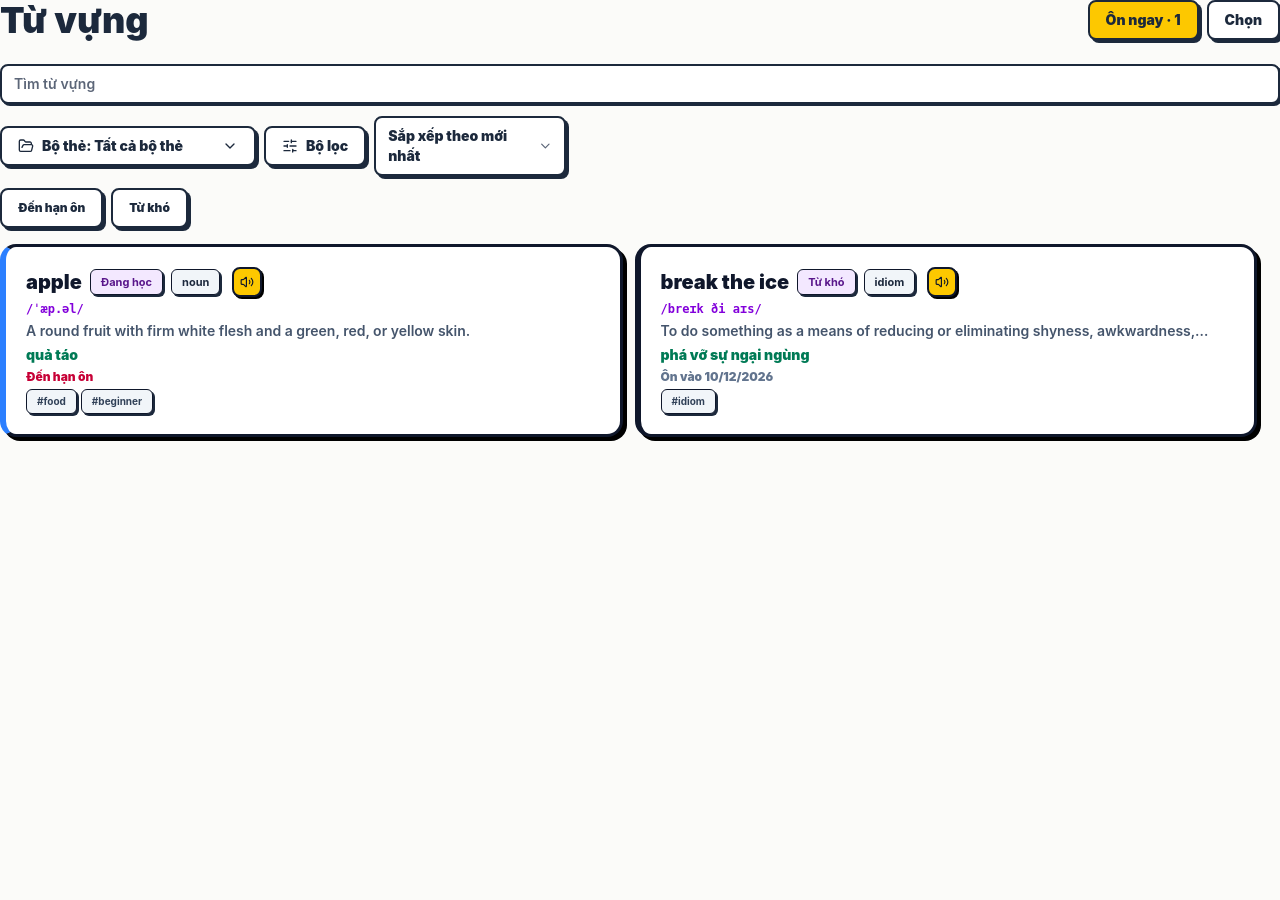
Test: VocabularyListPage bulk lessons › projects generated lesson count from selected words and lesson size
The width and height of the screenshot is (1280, 900).
Step 1. Click the button "Chọn" → (1243, 20), box left=1207, top=0, right=1279, bottom=40
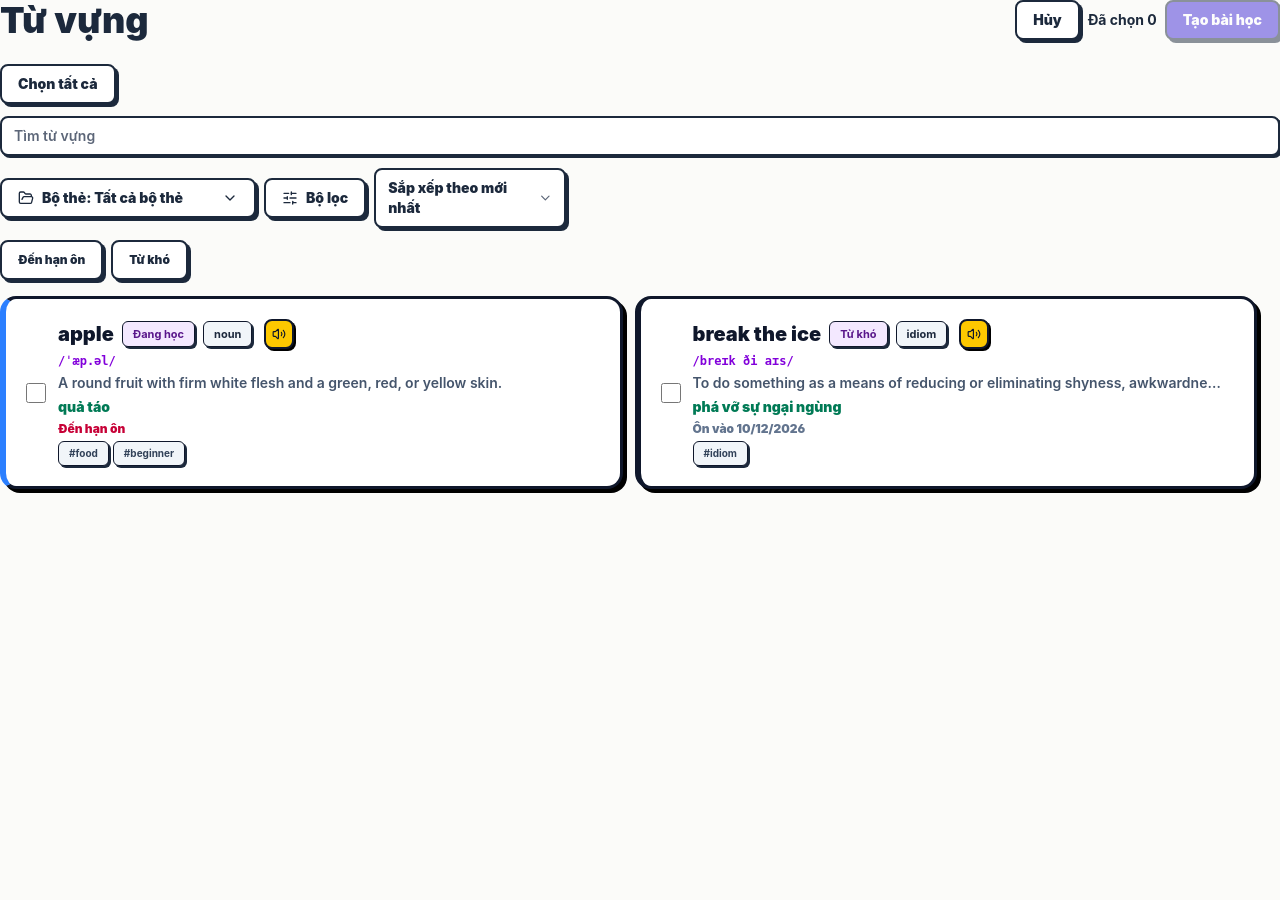
Step 2. Click the button "Chọn tất cả" → (58, 84), box left=0, top=64, right=116, bottom=104
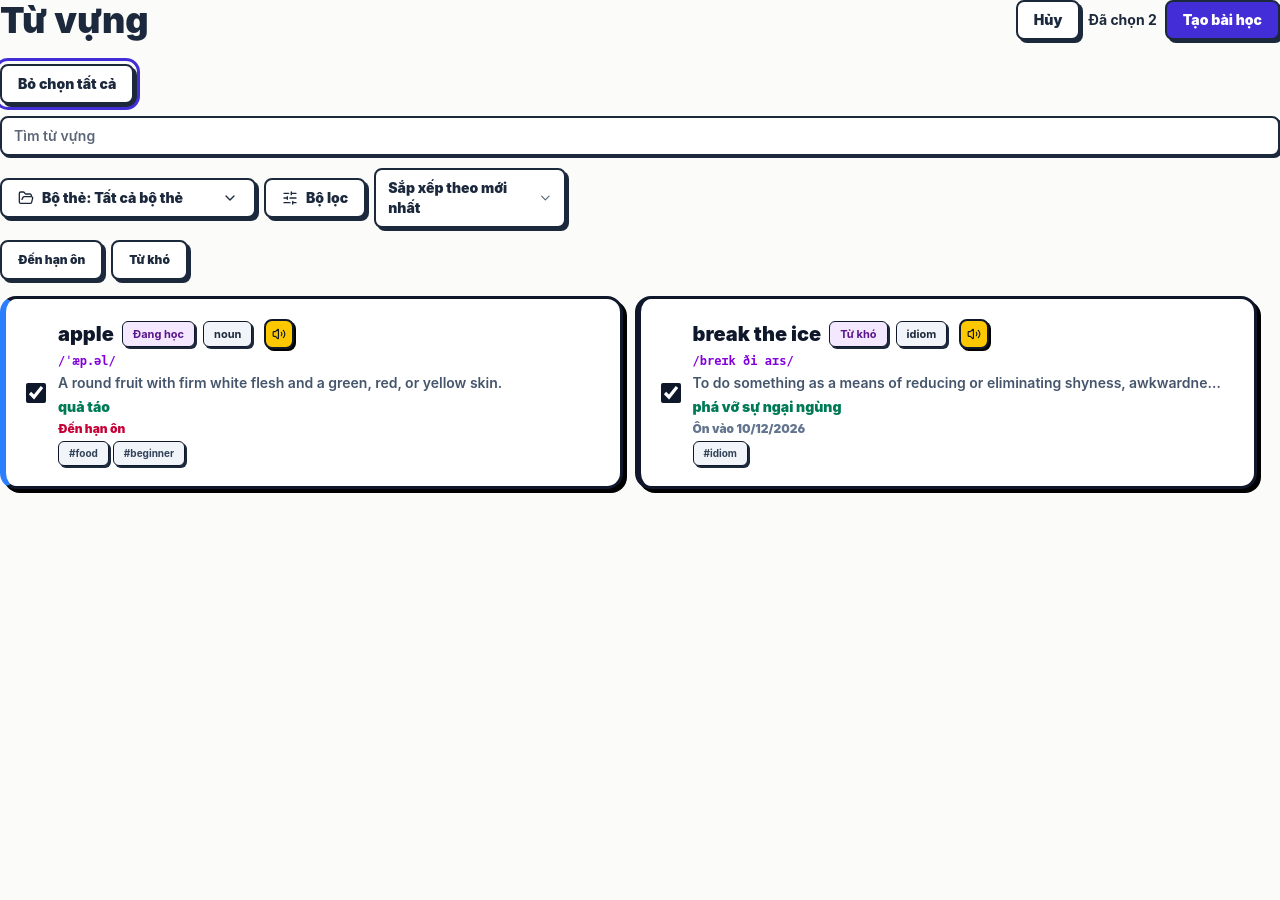
Step 3. Click the button "Tạo bài học" → (1222, 20), box left=1165, top=0, right=1279, bottom=40
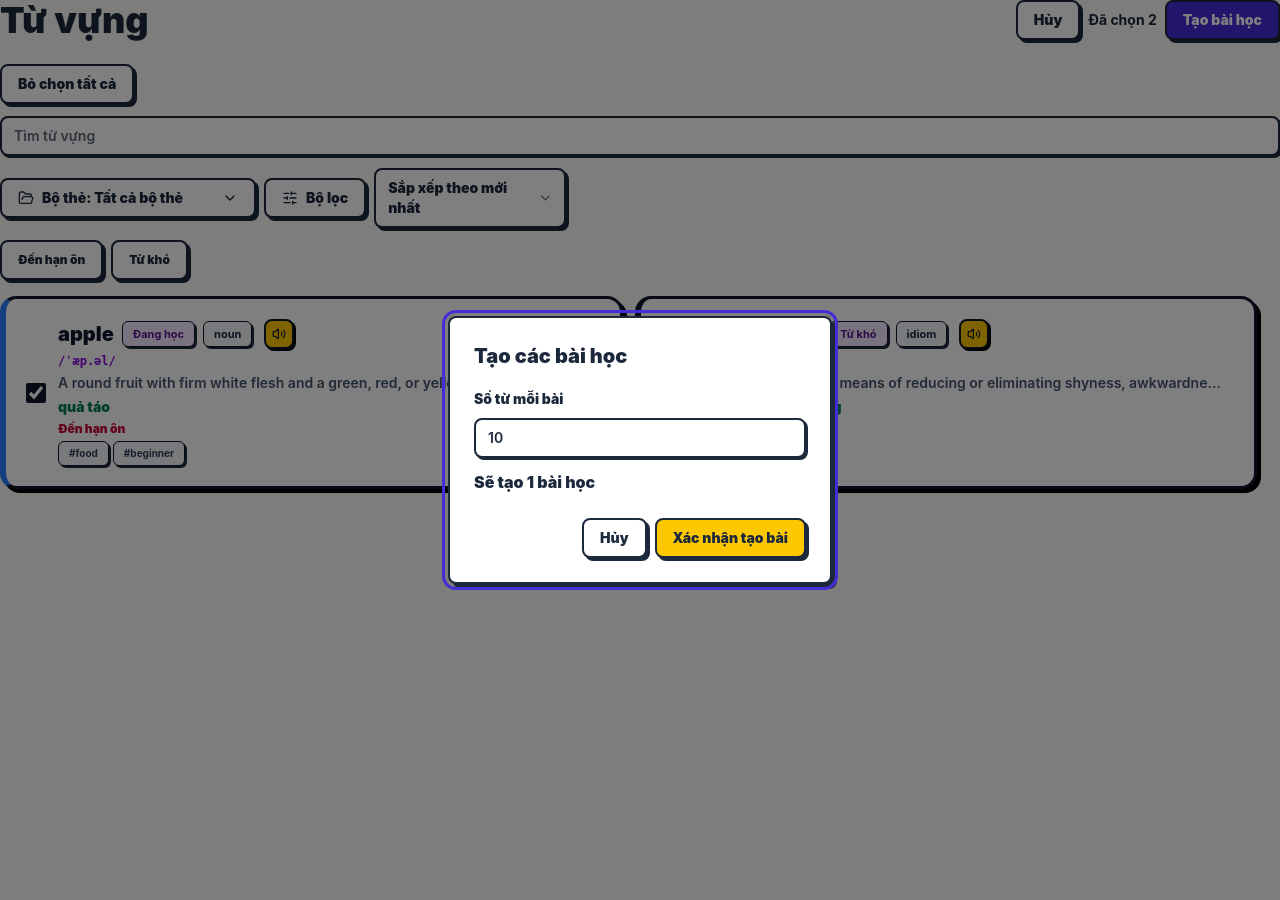
Step 4. Clear the number field labelled "Số từ mỗi bài" → (640, 438), box left=474, top=418, right=806, bottom=458
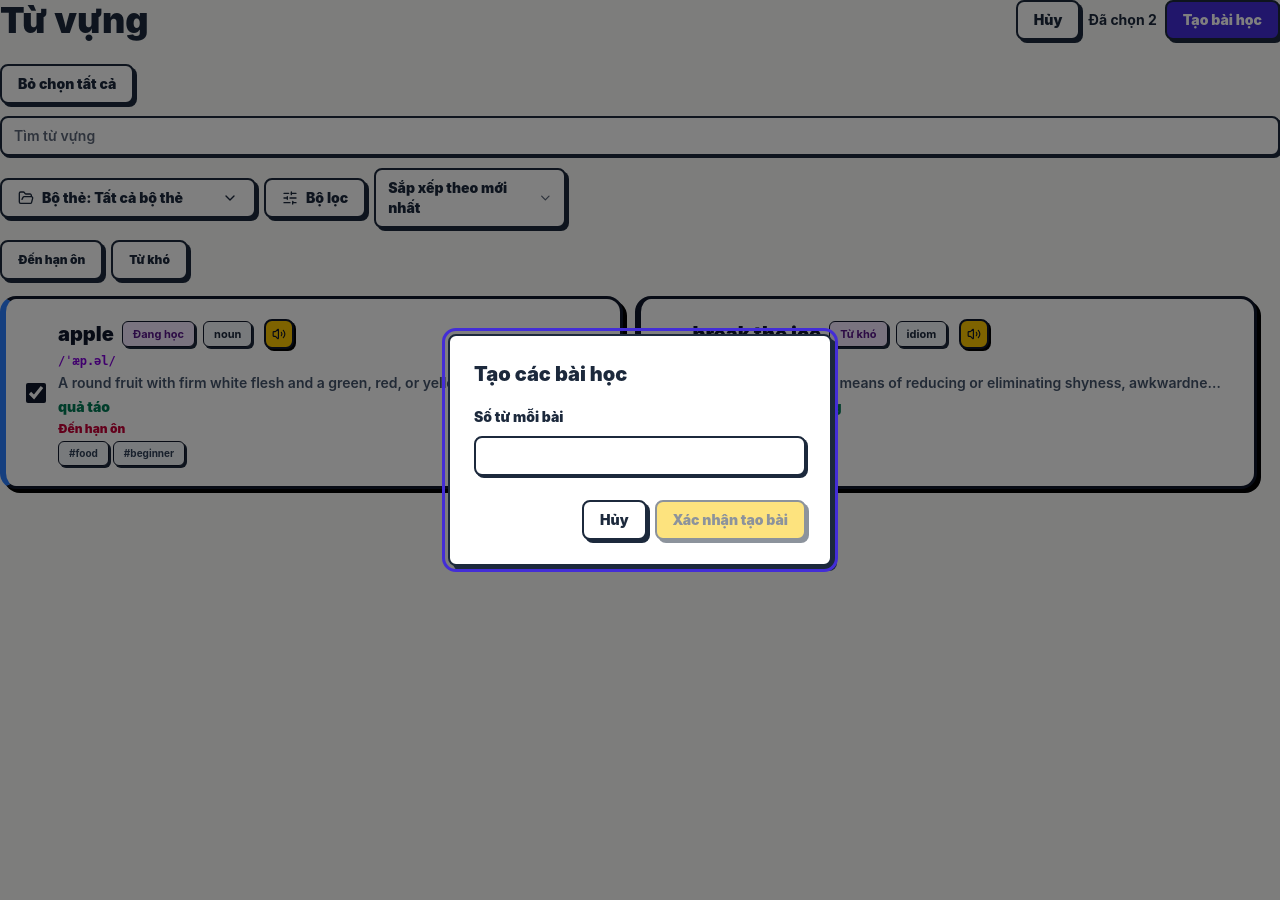
Step 5. Type "1" into the number field labelled "Số từ mỗi bài" → (640, 456), box left=474, top=436, right=806, bottom=476
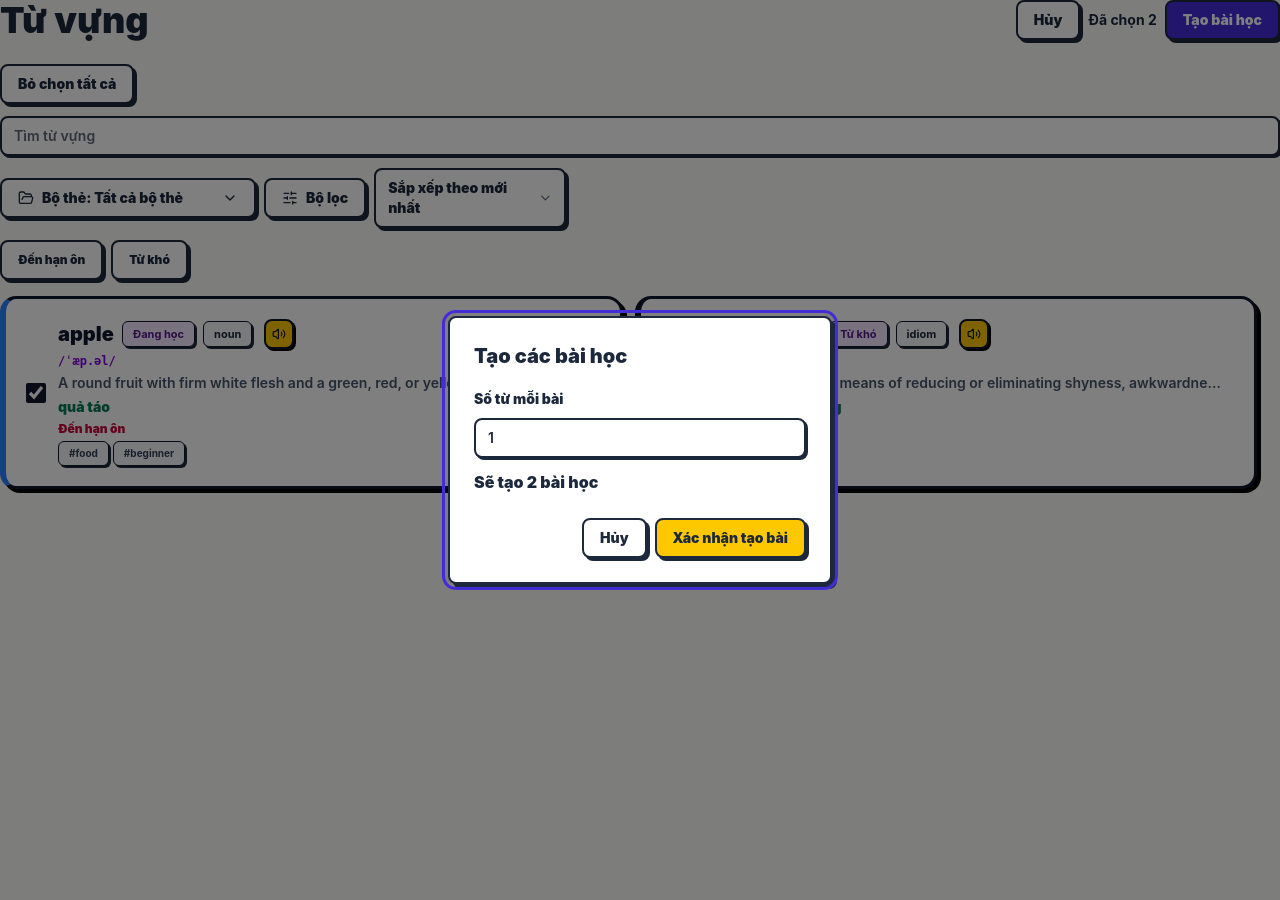
Now the text "Sẽ tạo 2 bài học" is shown, box left=474, top=472, right=598, bottom=492
